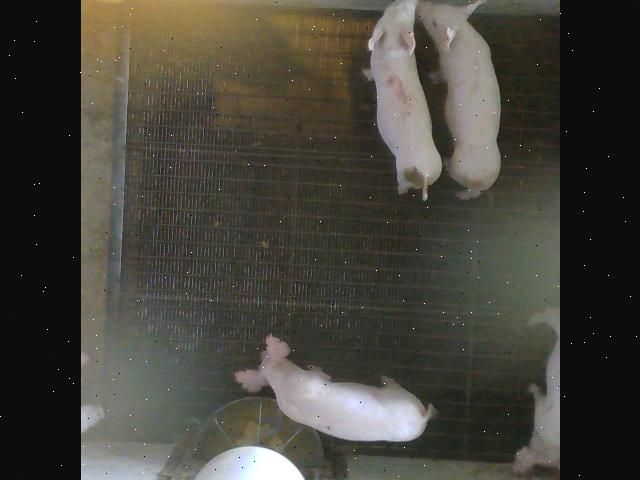pig-5: (364, 0, 441, 200)
